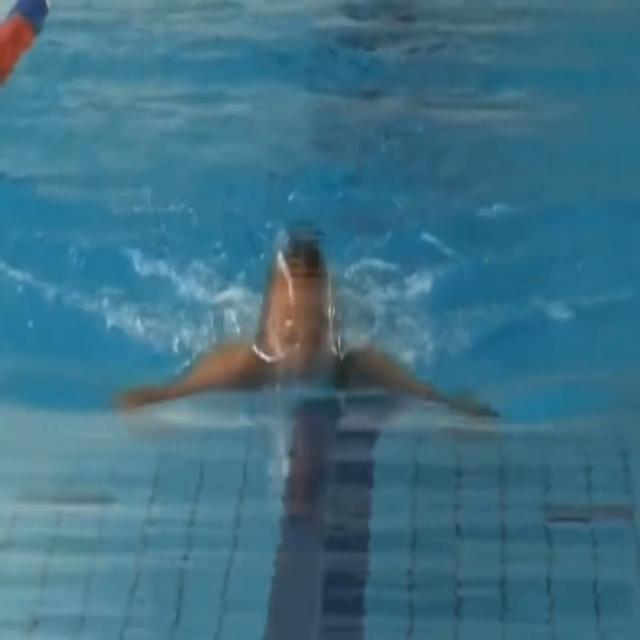Swimming: (112, 234, 498, 429)
